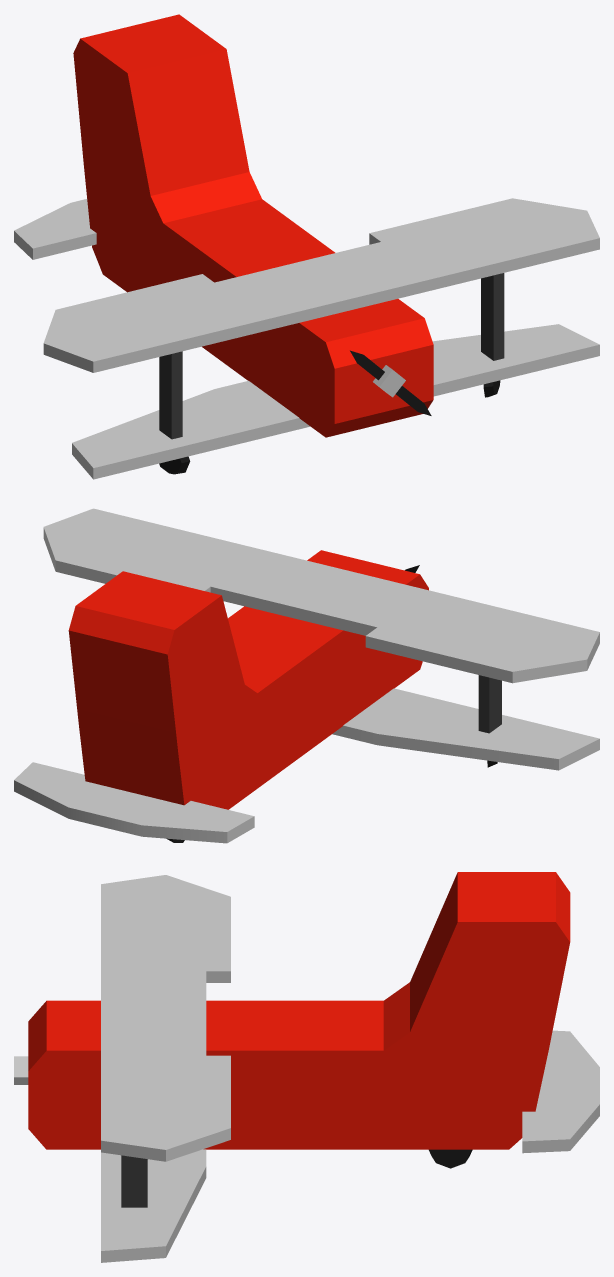
Rendered from Airplane_A.FBX.
The picture shows the model from 3 angles, top to bottom: view 1: azimuth 30°, elevation 25°; view 2: azimuth 150°, elevation 25°; view 3: azimuth 270°, elevation 25°; orthographic projection. The views are drawn at different scales.
Visible parts, largest first — view 1: Airplane; view 2: Airplane; view 3: Airplane.
Part boxes in pixels (x1,y1,x2,y2): Airplane: (14,14,599,479); Airplane: (14,508,599,843); Airplane: (14,872,599,1262).
Bounding box in the file's own units: 150 × 68.74 × 135.
